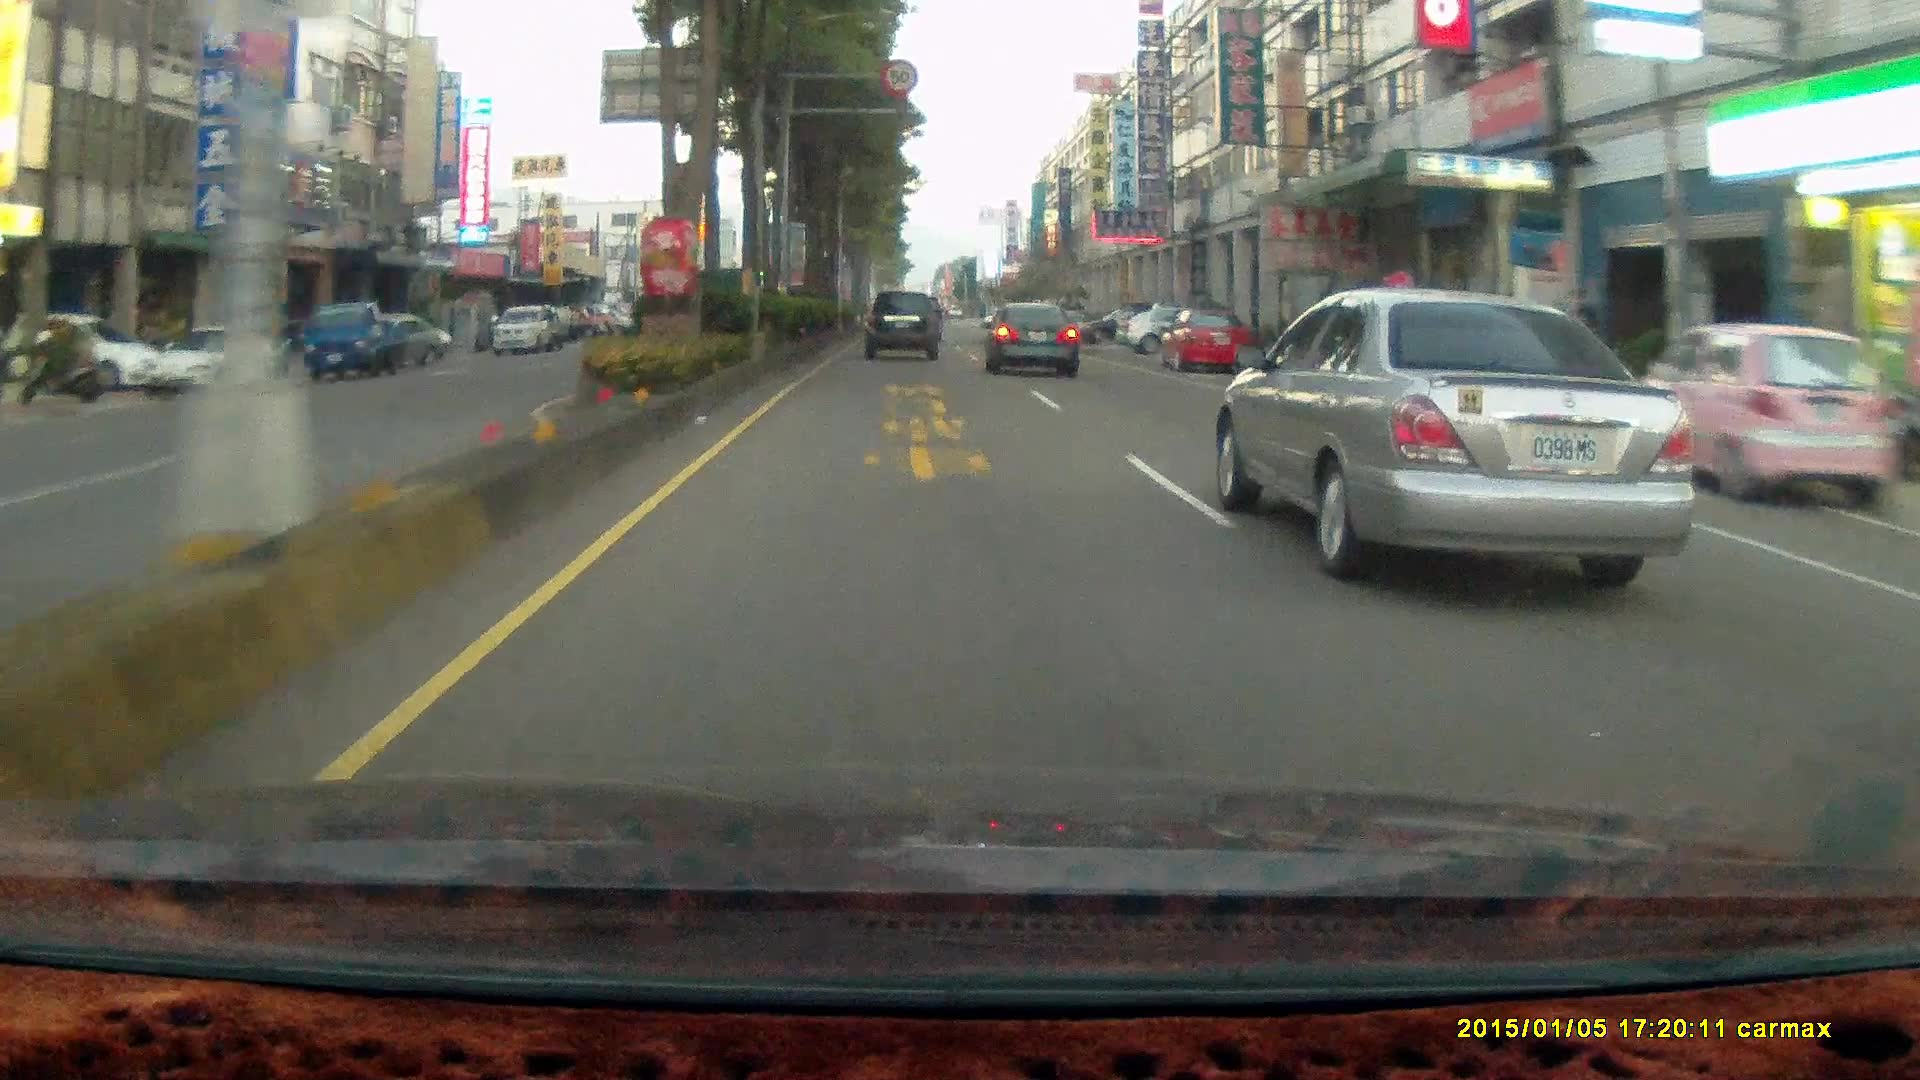vehicle: (1226, 286, 1716, 574), (1630, 322, 1890, 517), (1634, 322, 1875, 512), (1371, 295, 1568, 402), (8, 311, 161, 390), (142, 322, 280, 394), (302, 301, 423, 378), (142, 324, 277, 392), (303, 299, 406, 381), (986, 301, 1084, 378), (981, 301, 1077, 377), (1156, 306, 1250, 373), (1162, 307, 1251, 377), (866, 295, 949, 367), (1113, 294, 1226, 345), (861, 287, 939, 357), (347, 313, 443, 365), (491, 305, 556, 355), (1077, 307, 1158, 343)
